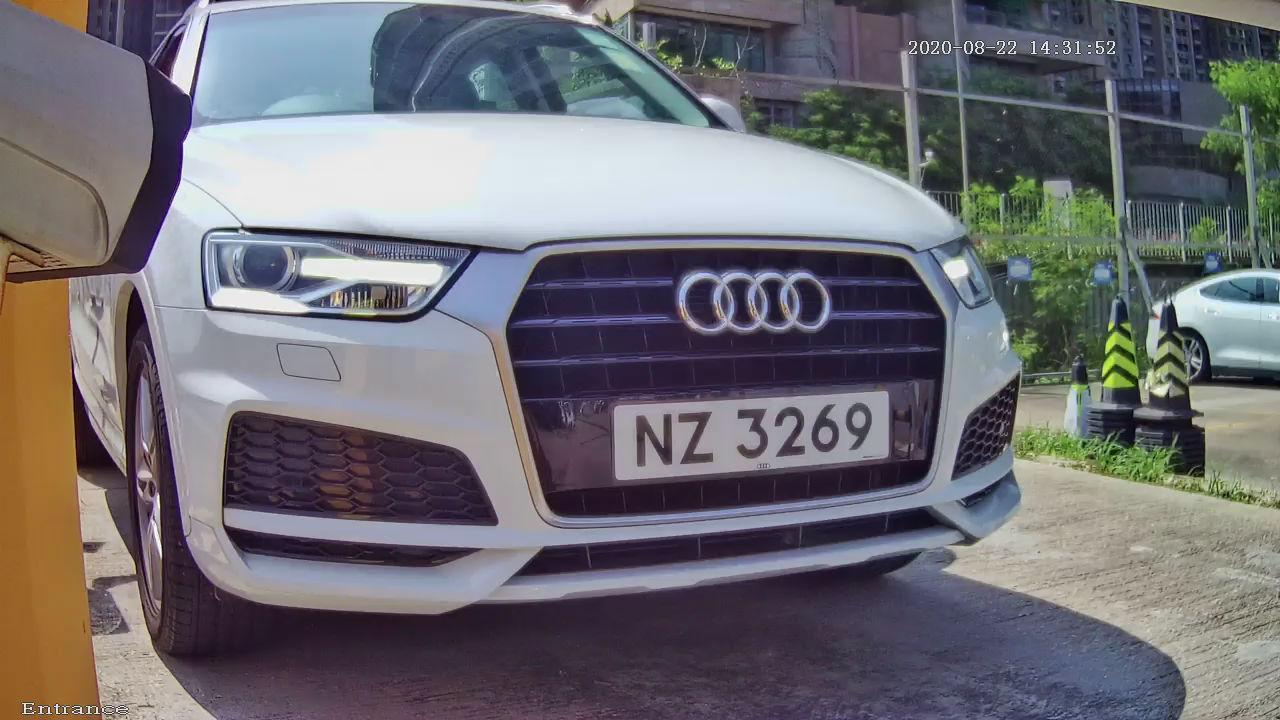Car: (29, 10, 1081, 669)
License Plate: (601, 380, 898, 486)
